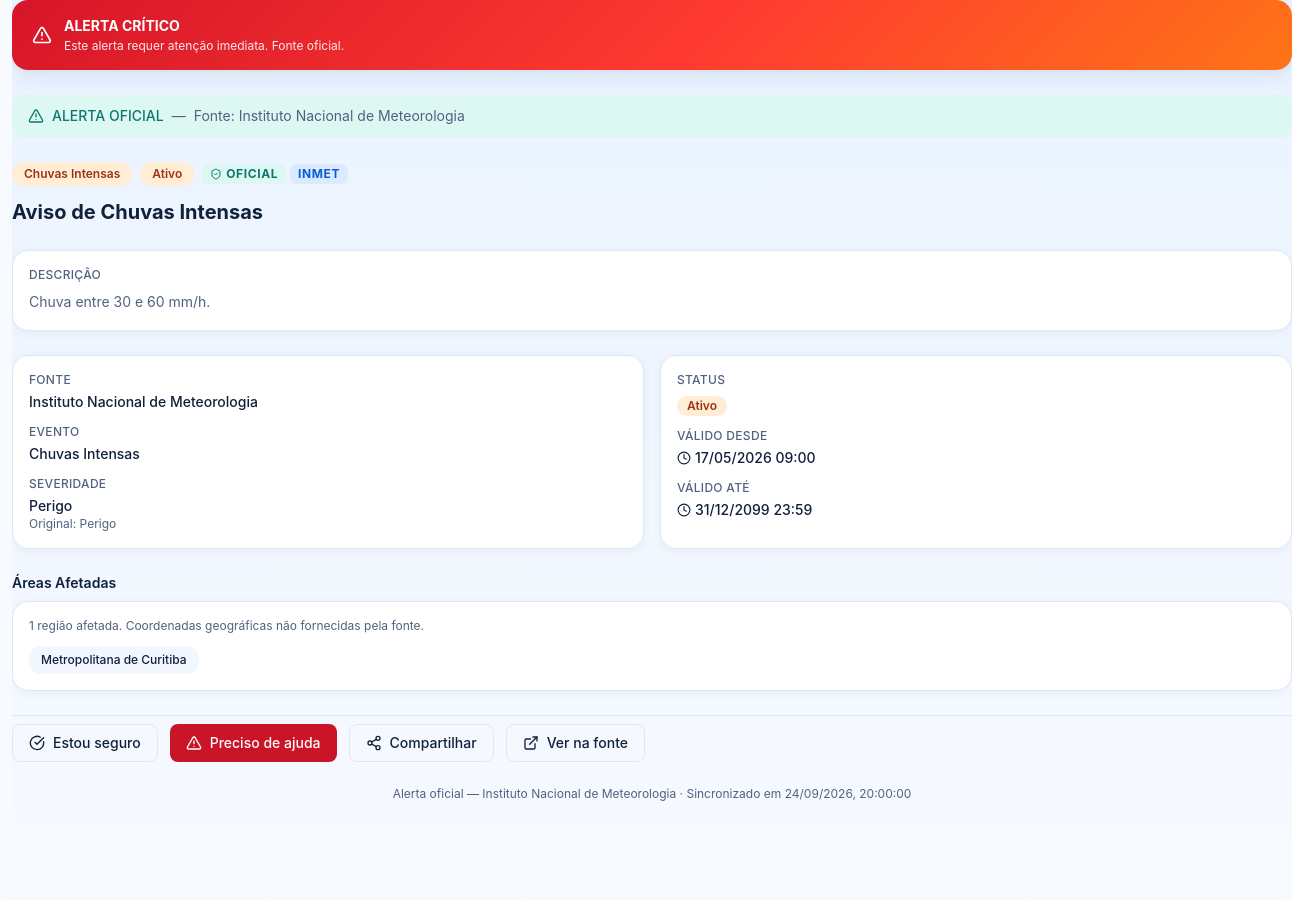
OfficialAlertDetail citizen actions › "Estou seguro" stores a LOCAL-only confirmation and says it is not sent to authorities
Click the button "Estou seguro": (85, 743) [12,724,158,762]
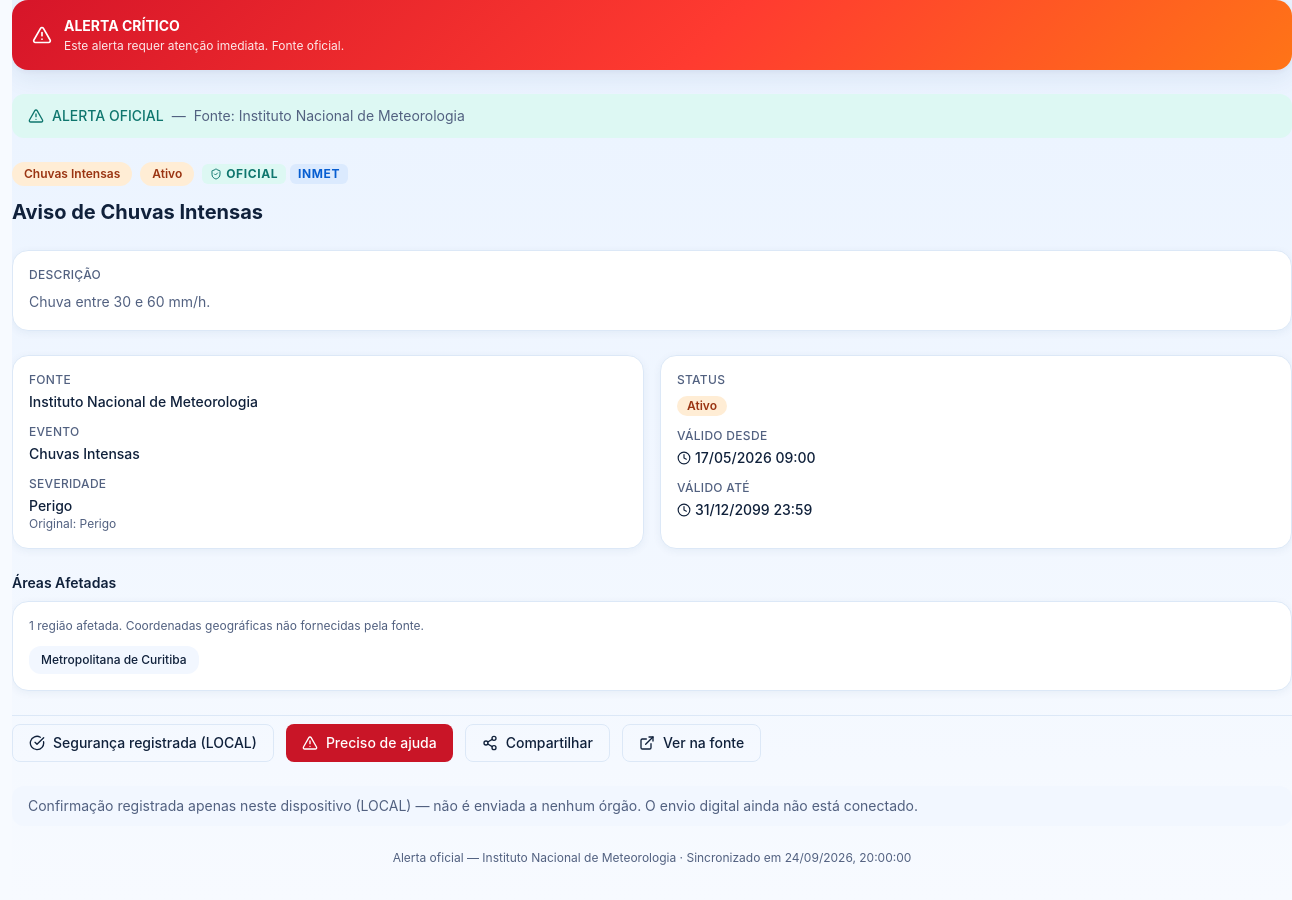
Expected: the text "registrada apenas neste dispositivo" shows "LOCAL", [28,797,918,814]
